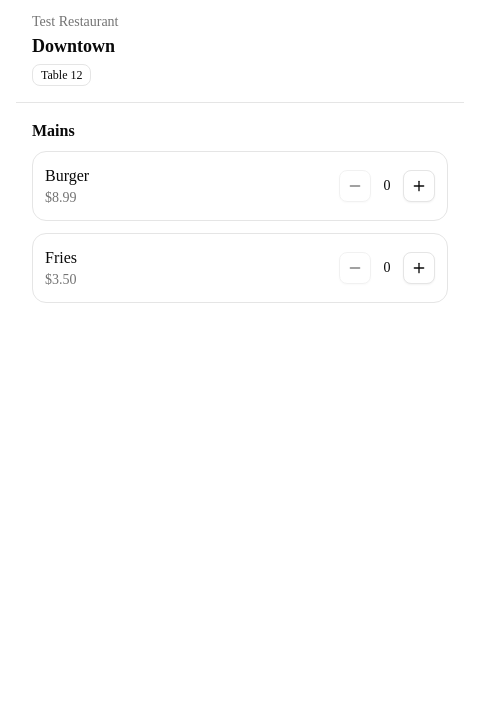
it: GuestOrderPage › adding an item reveals the sticky send-to-kitchen bar with the running count
Expected: the text "Send to kitchen" is not shown
Step 1. Click the button named "Add one Burger" → (419, 186), box [403,170,435,202]
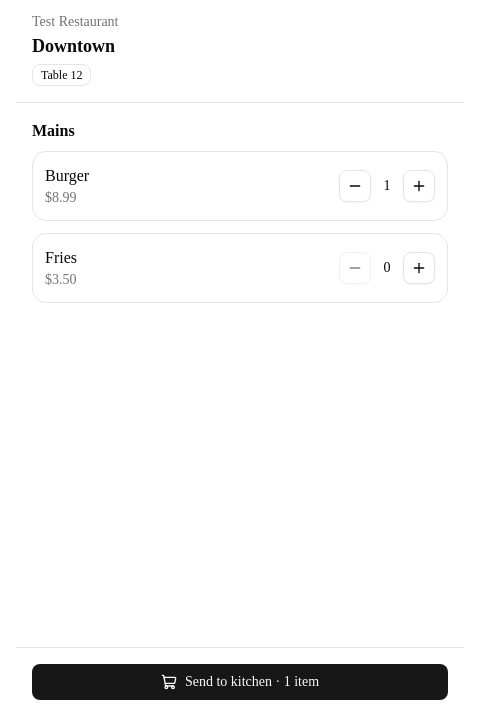
Step 2. Click the button named "Add one Burger" → (419, 186), box [403,170,435,202]
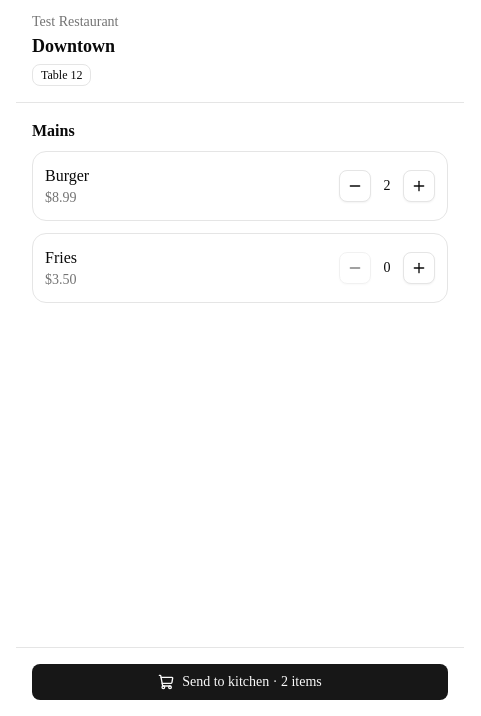
Step 3. Click the button named "Add one Fries" → (419, 268), box [403,252,435,284]
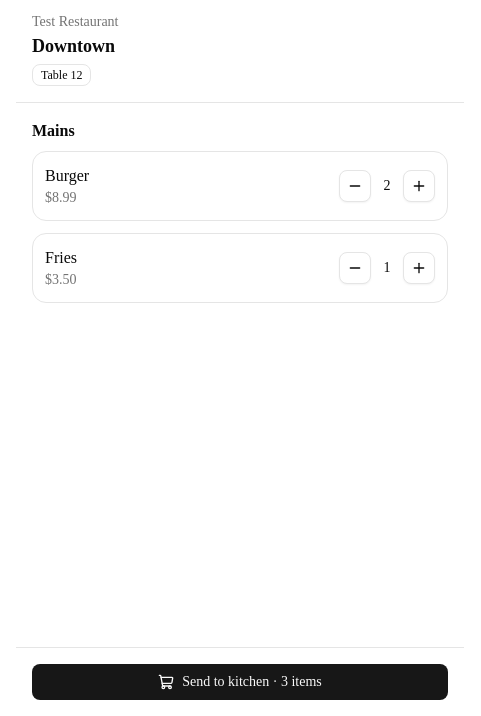
Now the button "Send to kitchen · 3 items" is shown, box [32,664,448,700]
